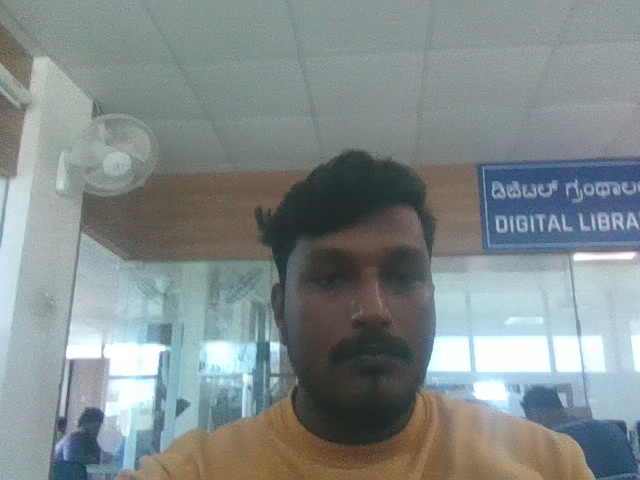real: (260, 141, 460, 424)
